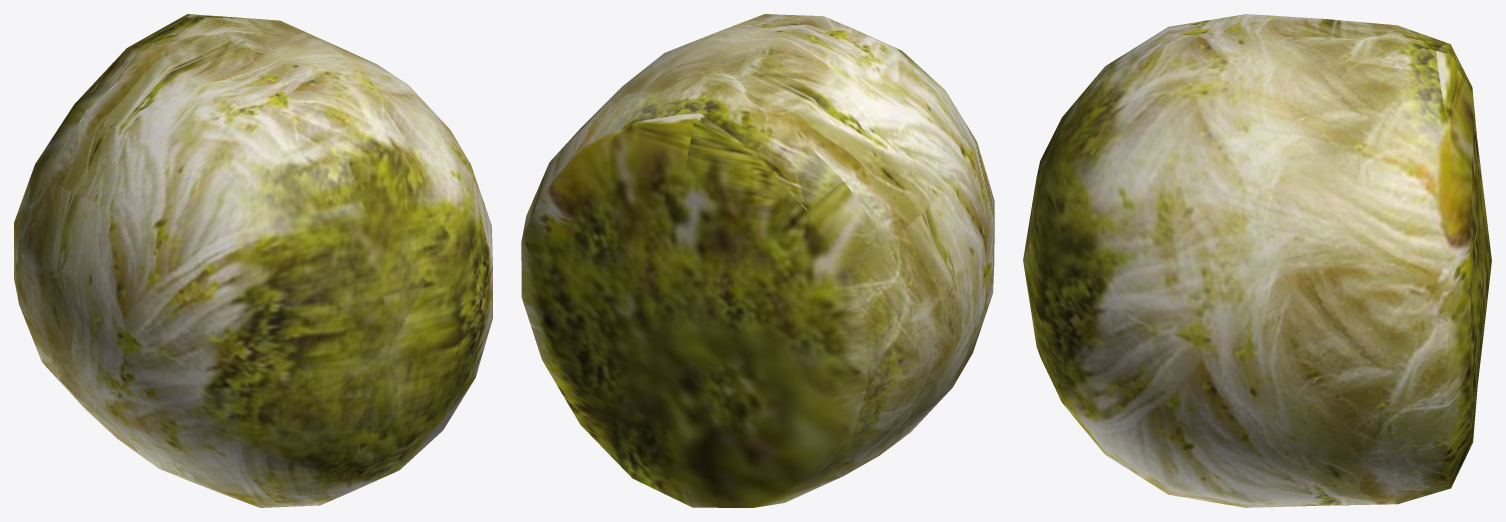
Rendered from pismaniye.obj.
3 views of the same model, side by side, from view 1: azimuth 30°, elevation 25°; view 2: azimuth 150°, elevation 25°; view 3: azimuth 270°, elevation 25° (orthographic). The views are drawn at different scales.
Parts seen in each view (by area): view 1: Sphere; view 2: Sphere; view 3: Sphere.
Part boxes in pixels (x1,y1,x2,y2): Sphere: (14, 14, 492, 507); Sphere: (521, 14, 994, 507); Sphere: (1023, 14, 1491, 507).
Bounding box in the file's own units: 1.37 × 1.41 × 1.32.
